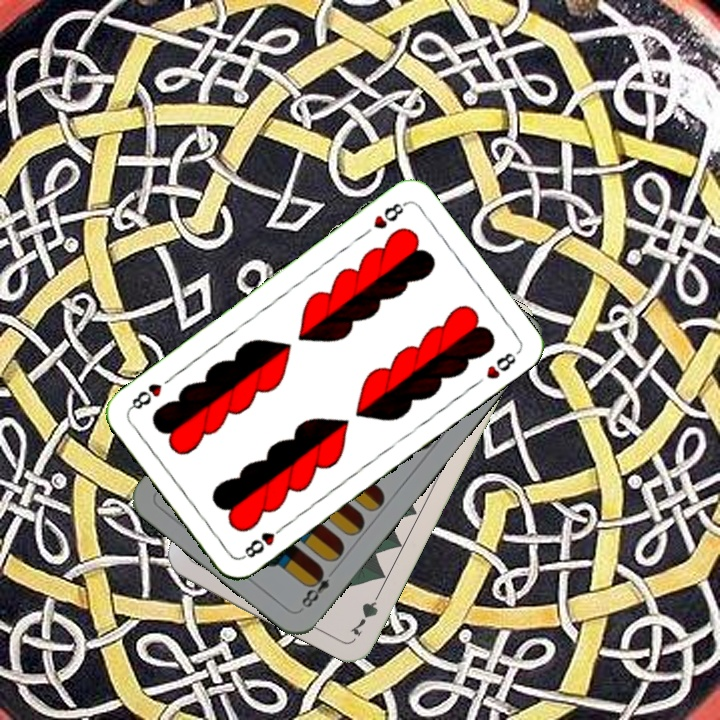E8: (297, 563, 339, 611)
G7: (346, 585, 385, 639)
H8: (237, 520, 288, 562), (369, 198, 409, 232)
